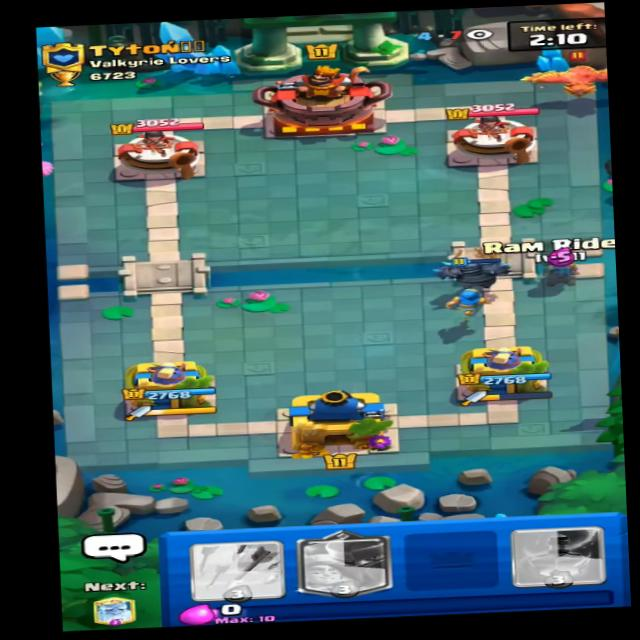phoenix: (514, 52, 637, 103)
